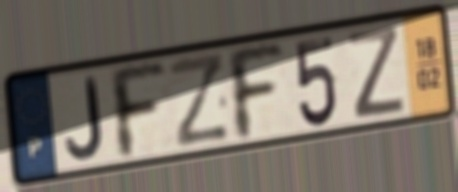5: (293, 33, 337, 128)
F: (104, 59, 171, 163), (222, 41, 288, 144)
J: (63, 73, 106, 162)
Z: (166, 49, 233, 153), (346, 24, 407, 122)
